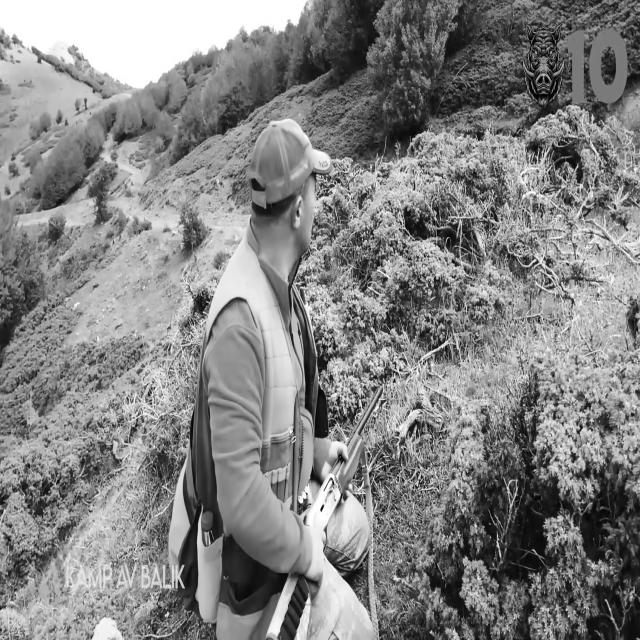boar: (522, 23, 563, 108)
monkey: (168, 119, 374, 638)
